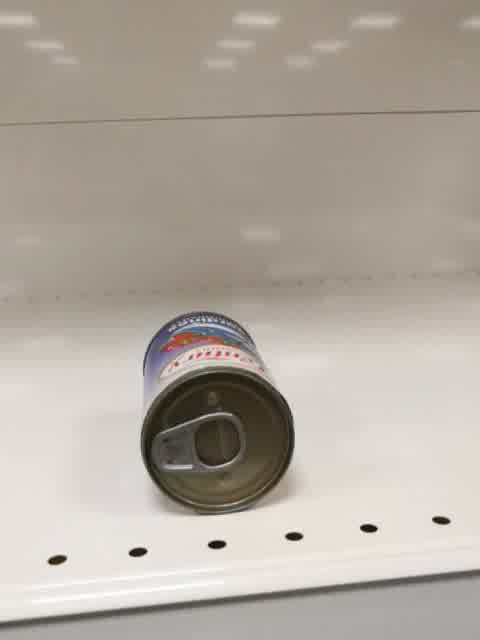sardine: (140, 310, 296, 515)
